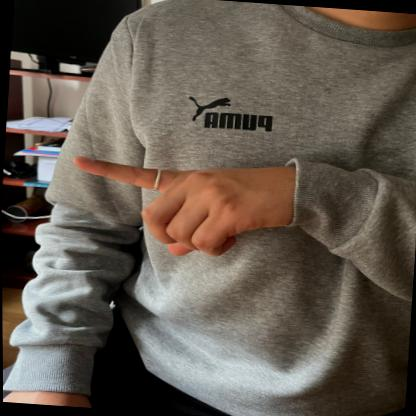S: (62, 140, 323, 272)
